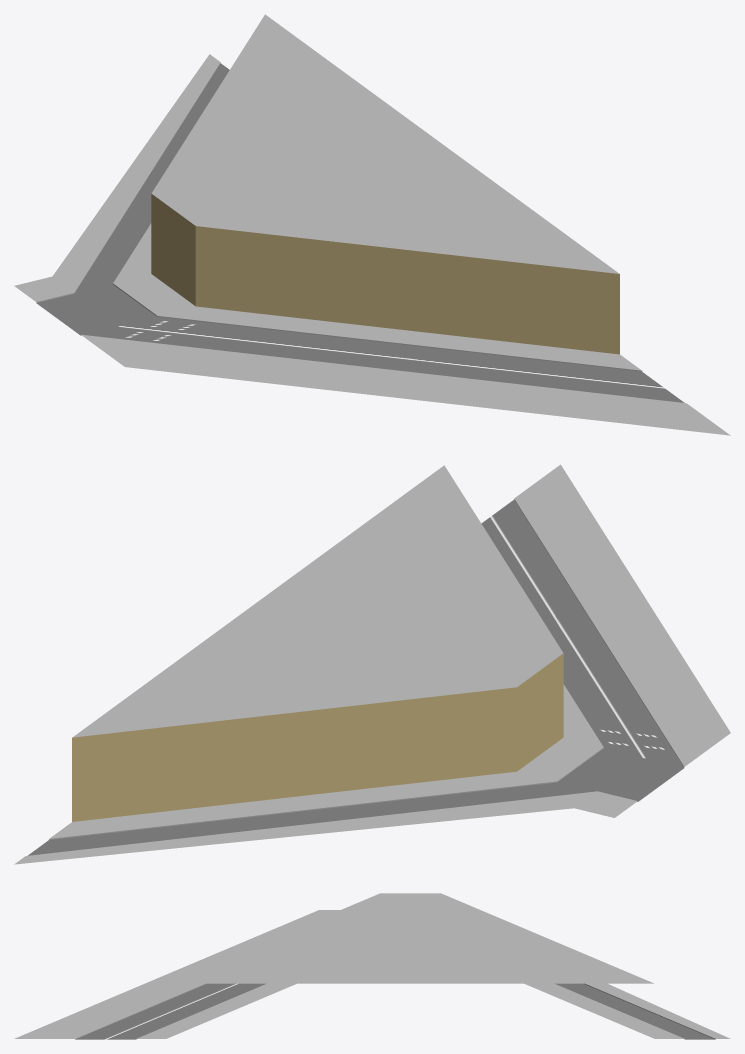
File: bifurcation.glb
3 renders of one model, top to bottom at view 1: azimuth 30°, elevation 25°; view 2: azimuth 150°, elevation 25°; view 3: azimuth 270°, elevation 25°, orthographic. The views are drawn at different scales.
Visible parts, largest first — view 1: Plane, WideRoad; view 2: Plane, WideRoad; view 3: Plane, WideRoad.
Boxes of the visible parts, <box> form: Plane: <box>14,14,730,435</box>; WideRoad: <box>81,317,684,402</box>; Plane: <box>14,464,730,864</box>; WideRoad: <box>481,500,683,767</box>; Plane: <box>14,893,730,1039</box>; WideRoad: <box>75,983,265,1039</box>.
Size of what is drawn, in the model's own units: 40 by 8.1 by 94.
4 materials, 1 textured.
